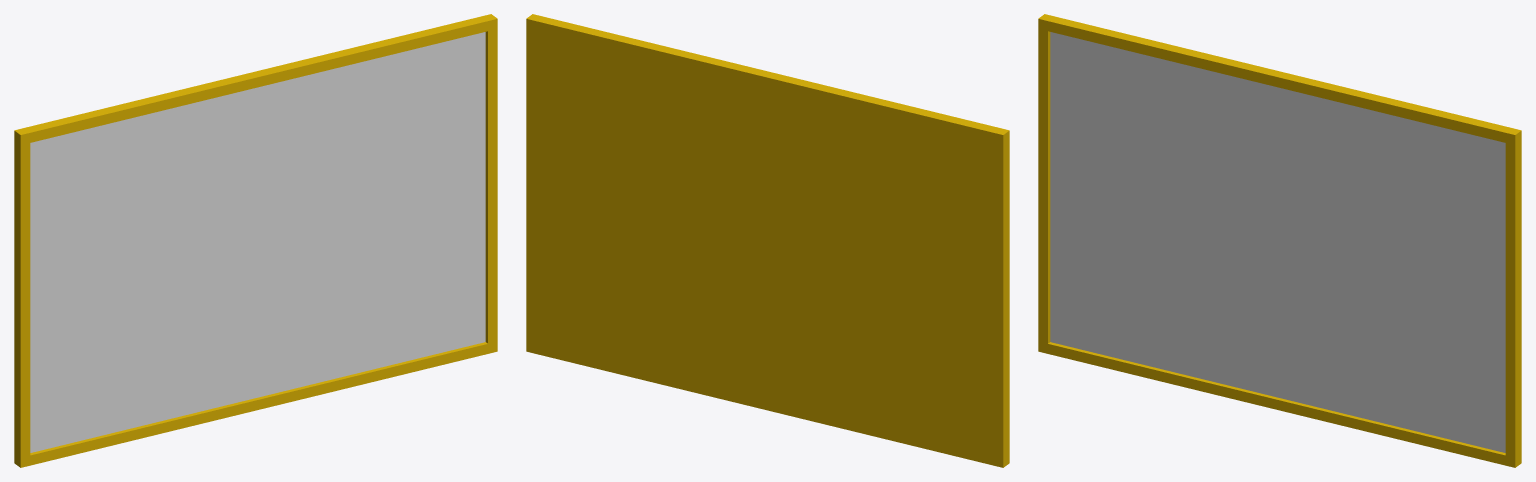
File: Frame_Horizon.glb
3 views of the same model, side by side, from view 1: azimuth 30°, elevation 25°; view 2: azimuth 150°, elevation 25°; view 3: azimuth 330°, elevation 25° (orthographic).
Visible parts, largest first — view 1: Frame_Horizon; view 2: Frame_Horizon; view 3: Frame_Horizon.
Boxes of the visible parts, x1,y1,x2,y2 form: Frame_Horizon: (14, 14, 497, 467); Frame_Horizon: (526, 14, 1009, 467); Frame_Horizon: (1038, 14, 1521, 467).
Bounding box in the file's own units: 3 × 2 × 0.0707.
